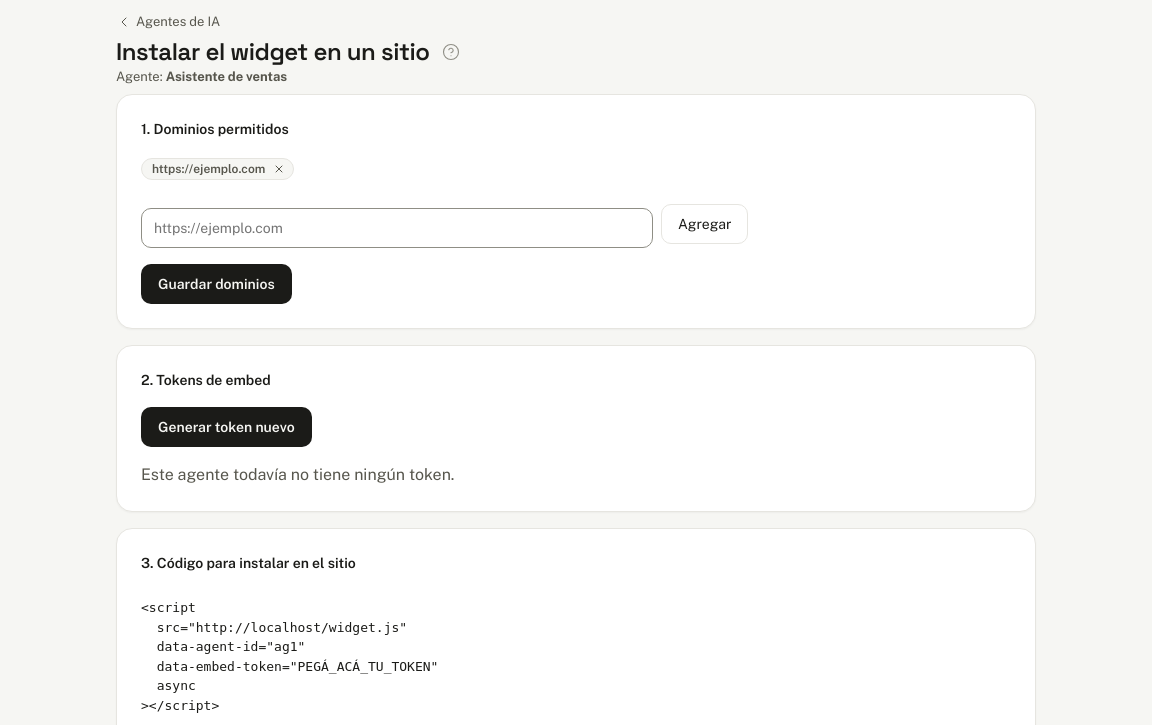
Test: AgentEmbedPage — dominios permitidos › un dominio repetido avisa en vez de desaparecer en silencio
Type "https://EJEMPLO.com" into the field named "Dominio nuevo". click: (397, 228)
box: left=141, top=208, right=653, bottom=248
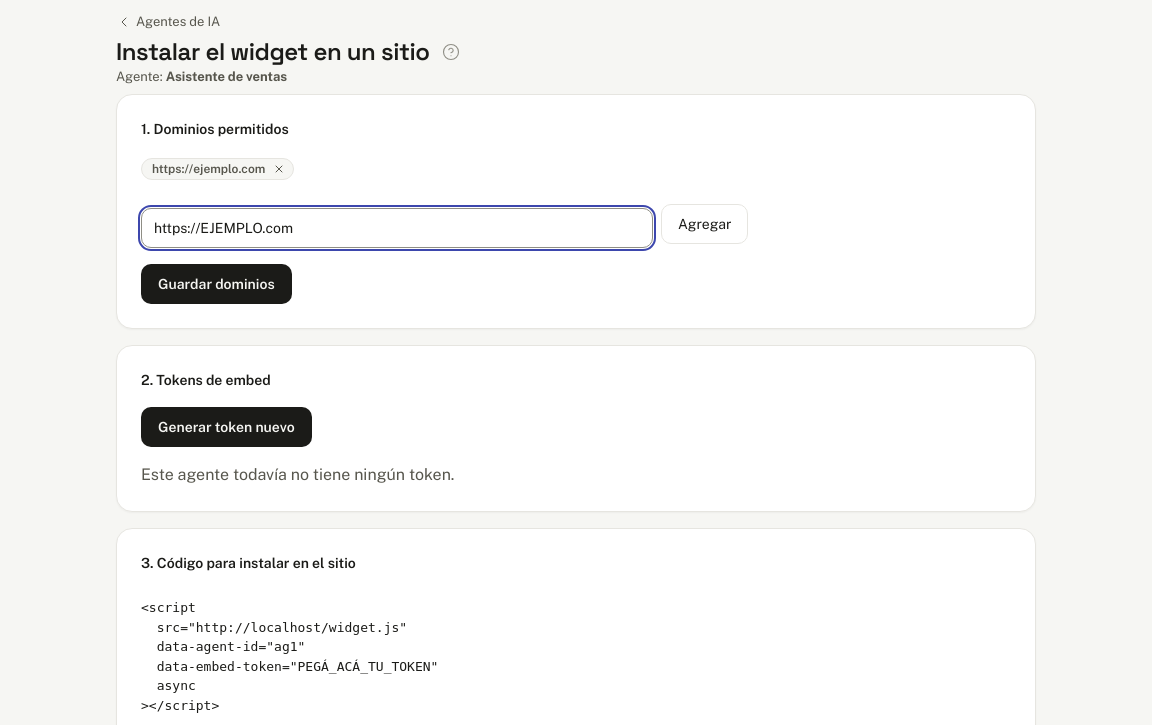
Click the button "Agregar". click: click(705, 224)
box: left=661, top=204, right=748, bottom=244
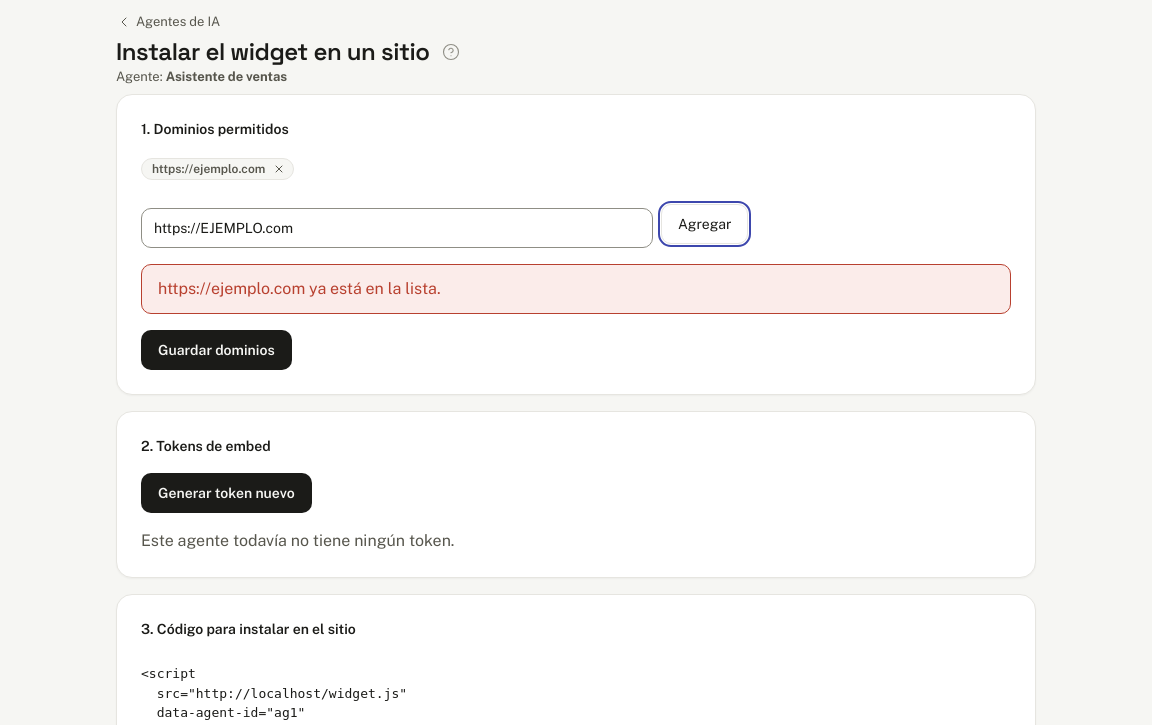
expect the text "https://ejemplo.com ya está en la lista." is shown: met, box left=141, top=264, right=1011, bottom=314
